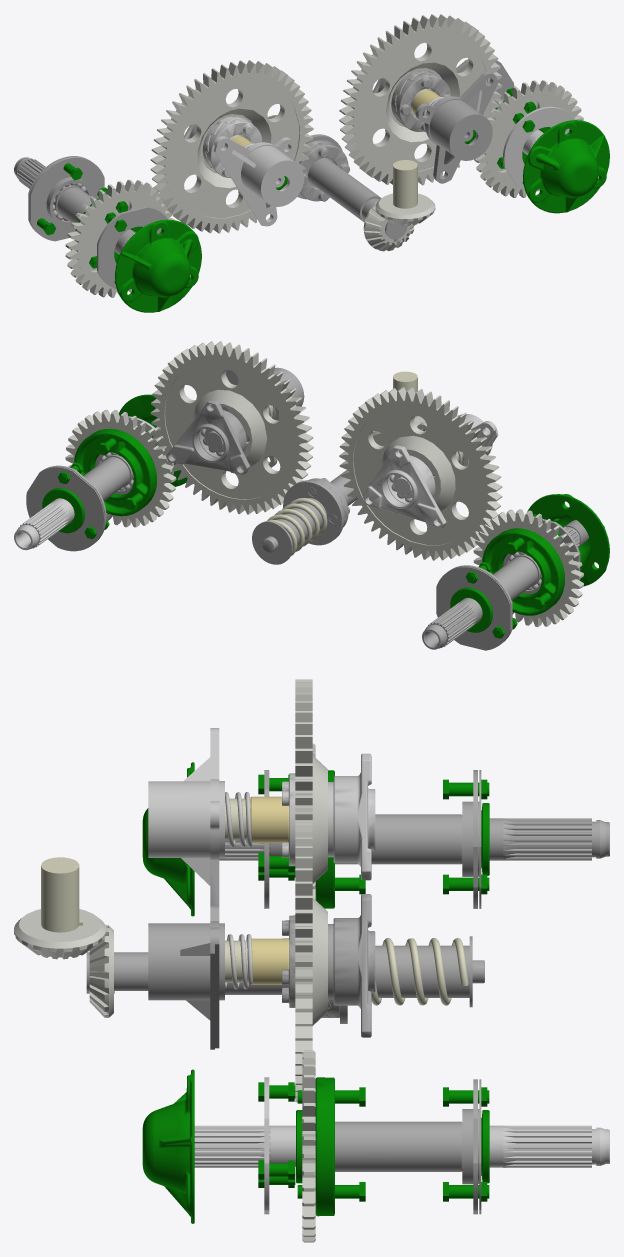
The model's file is gearbox.glb.
3 renders of one model, top to bottom at view 1: azimuth 30°, elevation 25°; view 2: azimuth 150°, elevation 25°; view 3: azimuth 270°, elevation 25°, orthographic. The views are drawn at different scales.
Visible parts, largest first — view 1: body; view 2: body; view 3: body.
Part boxes in pixels (x1,y1,x2,y2): body: [14, 14, 609, 312]; body: [14, 341, 609, 650]; body: [14, 679, 609, 1242].
Bounding box in the file's own units: 29.77 × 11.31 × 19.31.
1 material, 1 textured.
